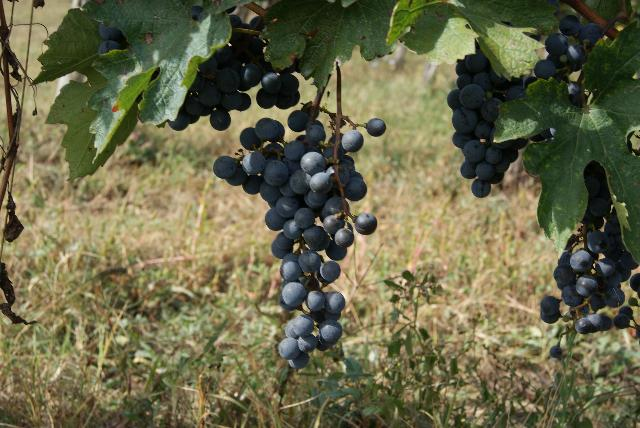grapes: (214, 111, 378, 370)
